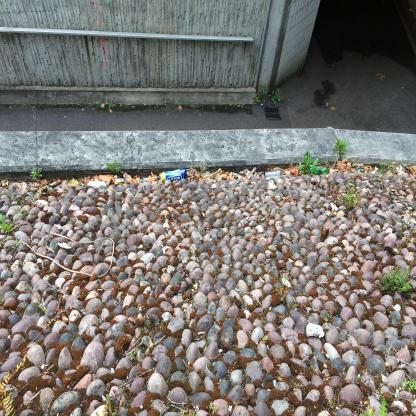plastik: (159, 169, 189, 184), (266, 169, 288, 181), (308, 165, 330, 177)
